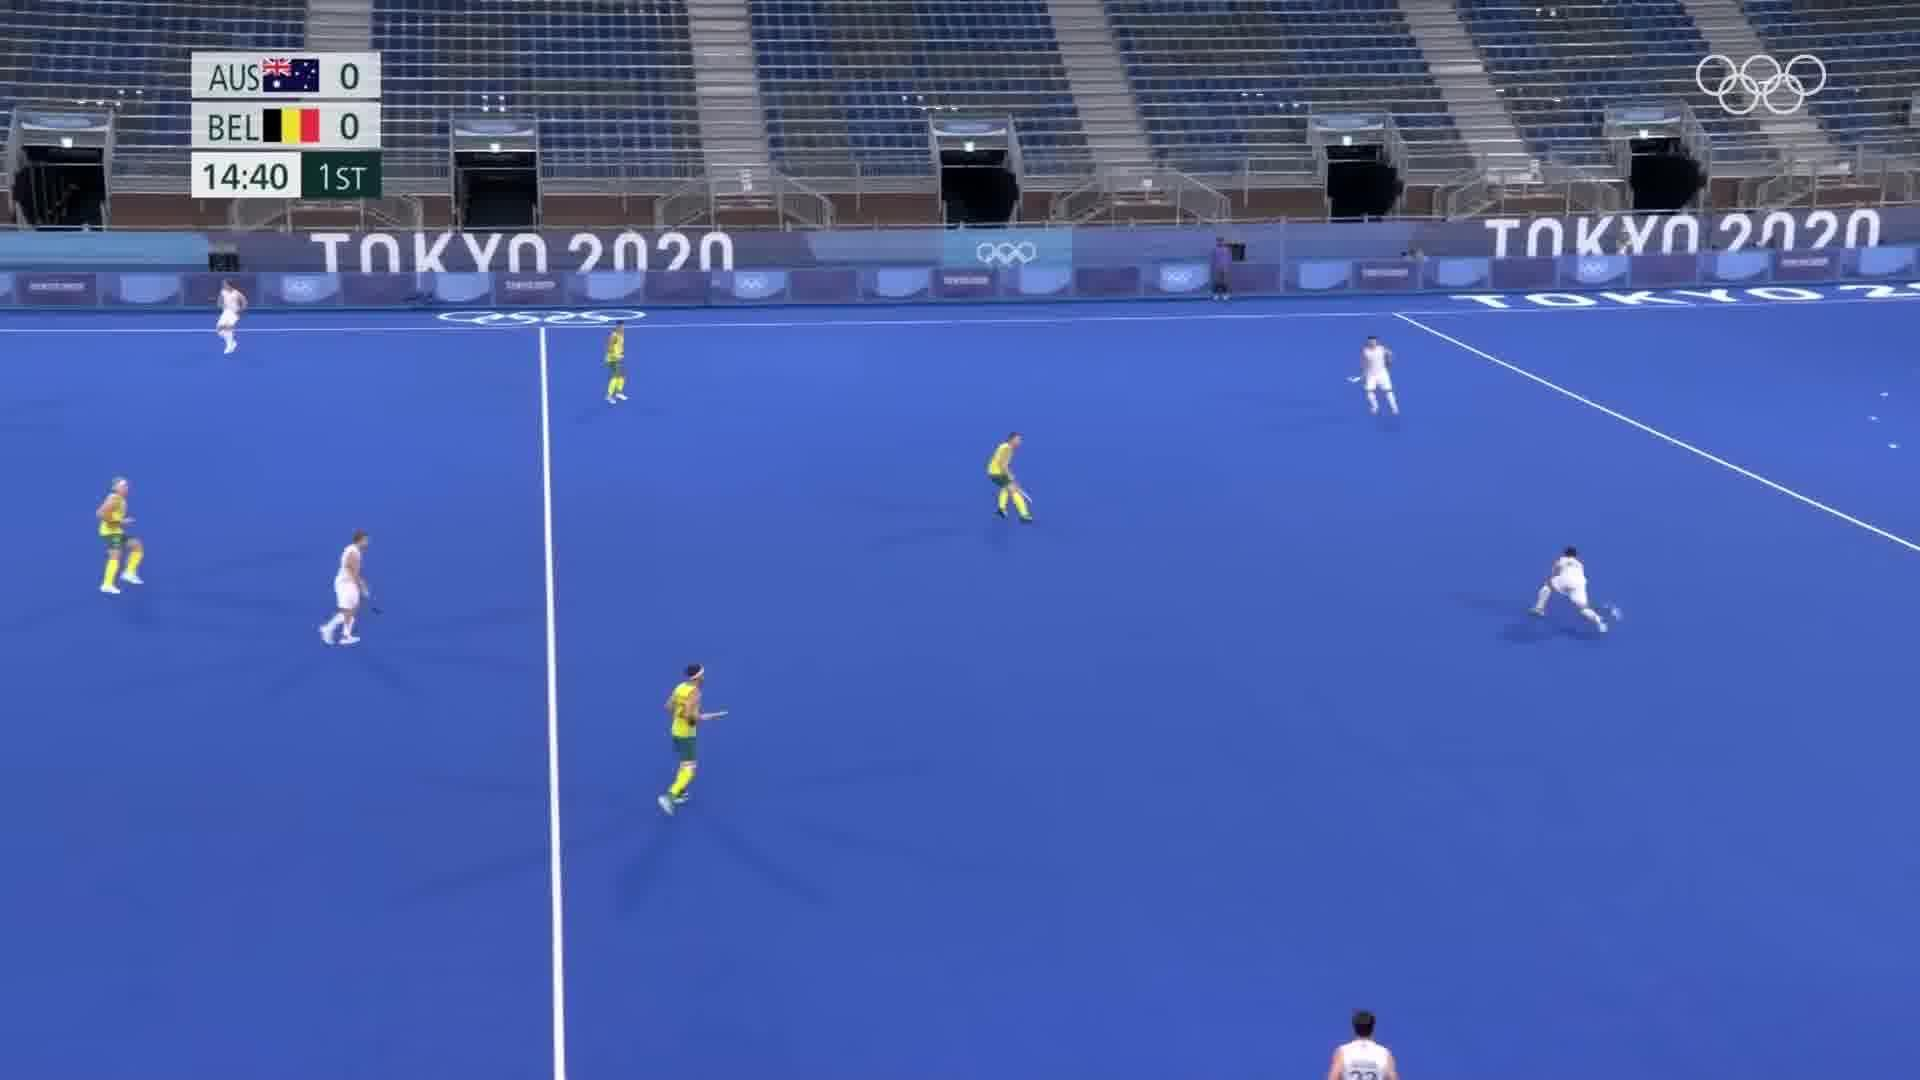ball: (1606, 593, 1629, 632)
